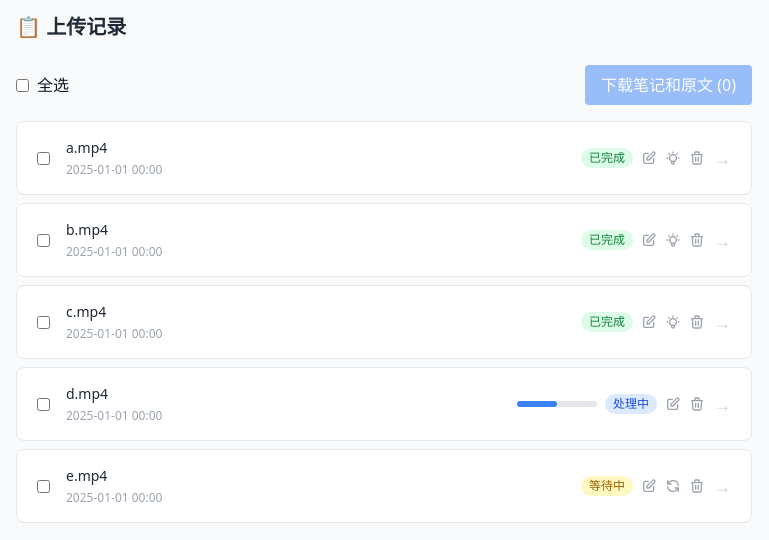
VideoListPage - 全选逻辑 › 全选按钮选中所有已完成视频
Click the checkbox labelled "全选": x=22, y=85 [16,78,29,92]
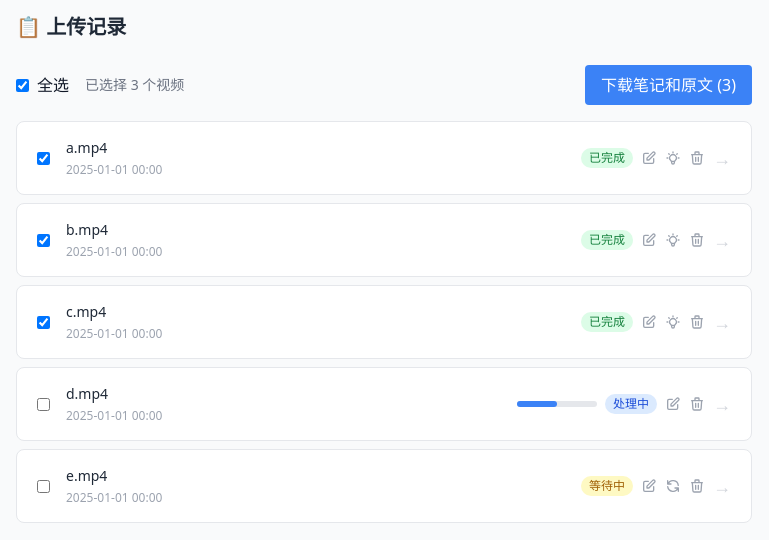
expect the text "已选择 3 个视频" is shown: met, box [85,75,184,95]
